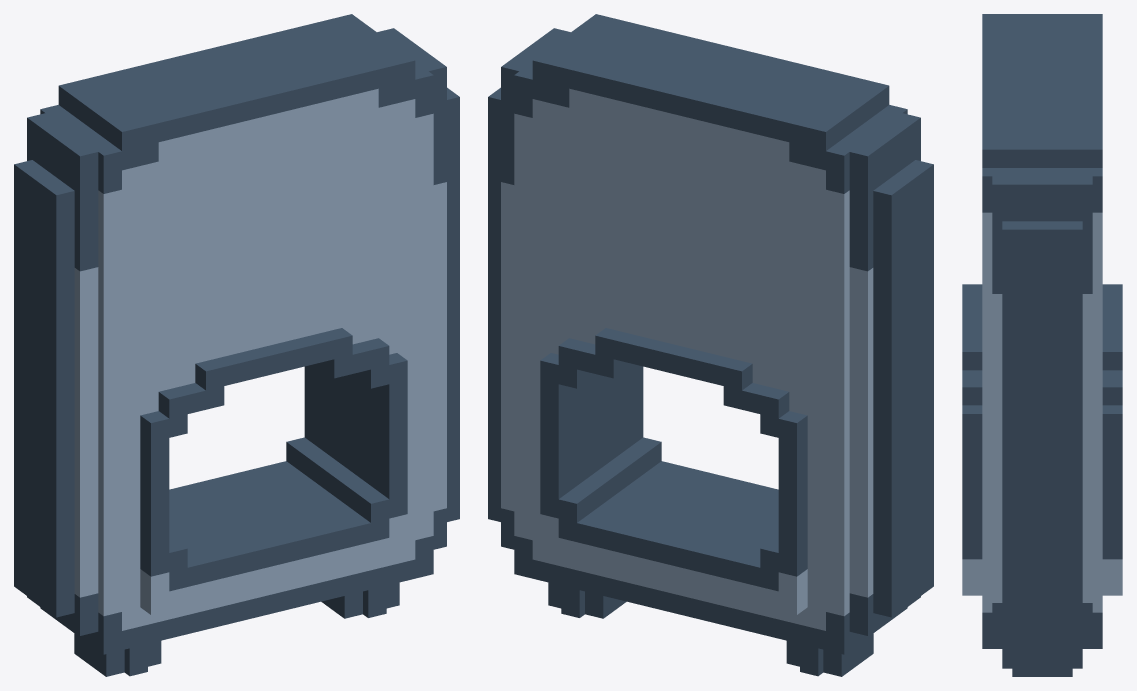
The model's file is boiler.glb.
3 renders of one model, left to right at view 1: azimuth 30°, elevation 25°; view 2: azimuth 150°, elevation 25°; view 3: azimuth 270°, elevation 25°, orthographic. The views are drawn at different scales.
Parts seen in each view (by area): view 1: generated(Clone); view 2: generated(Clone); view 3: generated(Clone).
Part boxes in pixels (x1,y1,x2,y2): generated(Clone): [14, 14, 459, 676]; generated(Clone): [488, 14, 933, 676]; generated(Clone): [962, 14, 1122, 676].
Size of the model in its own units: 22 by 29 by 8.
1 material, 1 textured.
